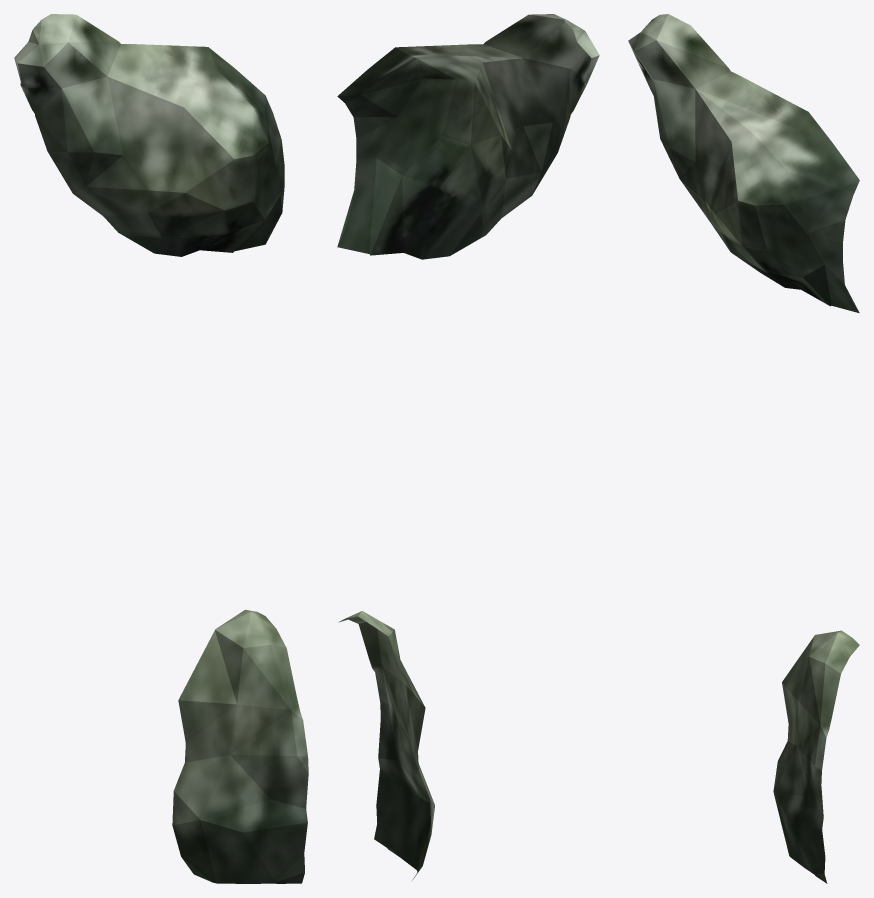
3 renders of one model, left to right at view 1: azimuth 30°, elevation 25°; view 2: azimuth 150°, elevation 25°; view 3: azimuth 330°, elevation 25°, orthographic. The views are drawn at different scales.
Size of the model in its own units: 1.48 by 4.99 by 0.5313.
1 material, 1 textured.
